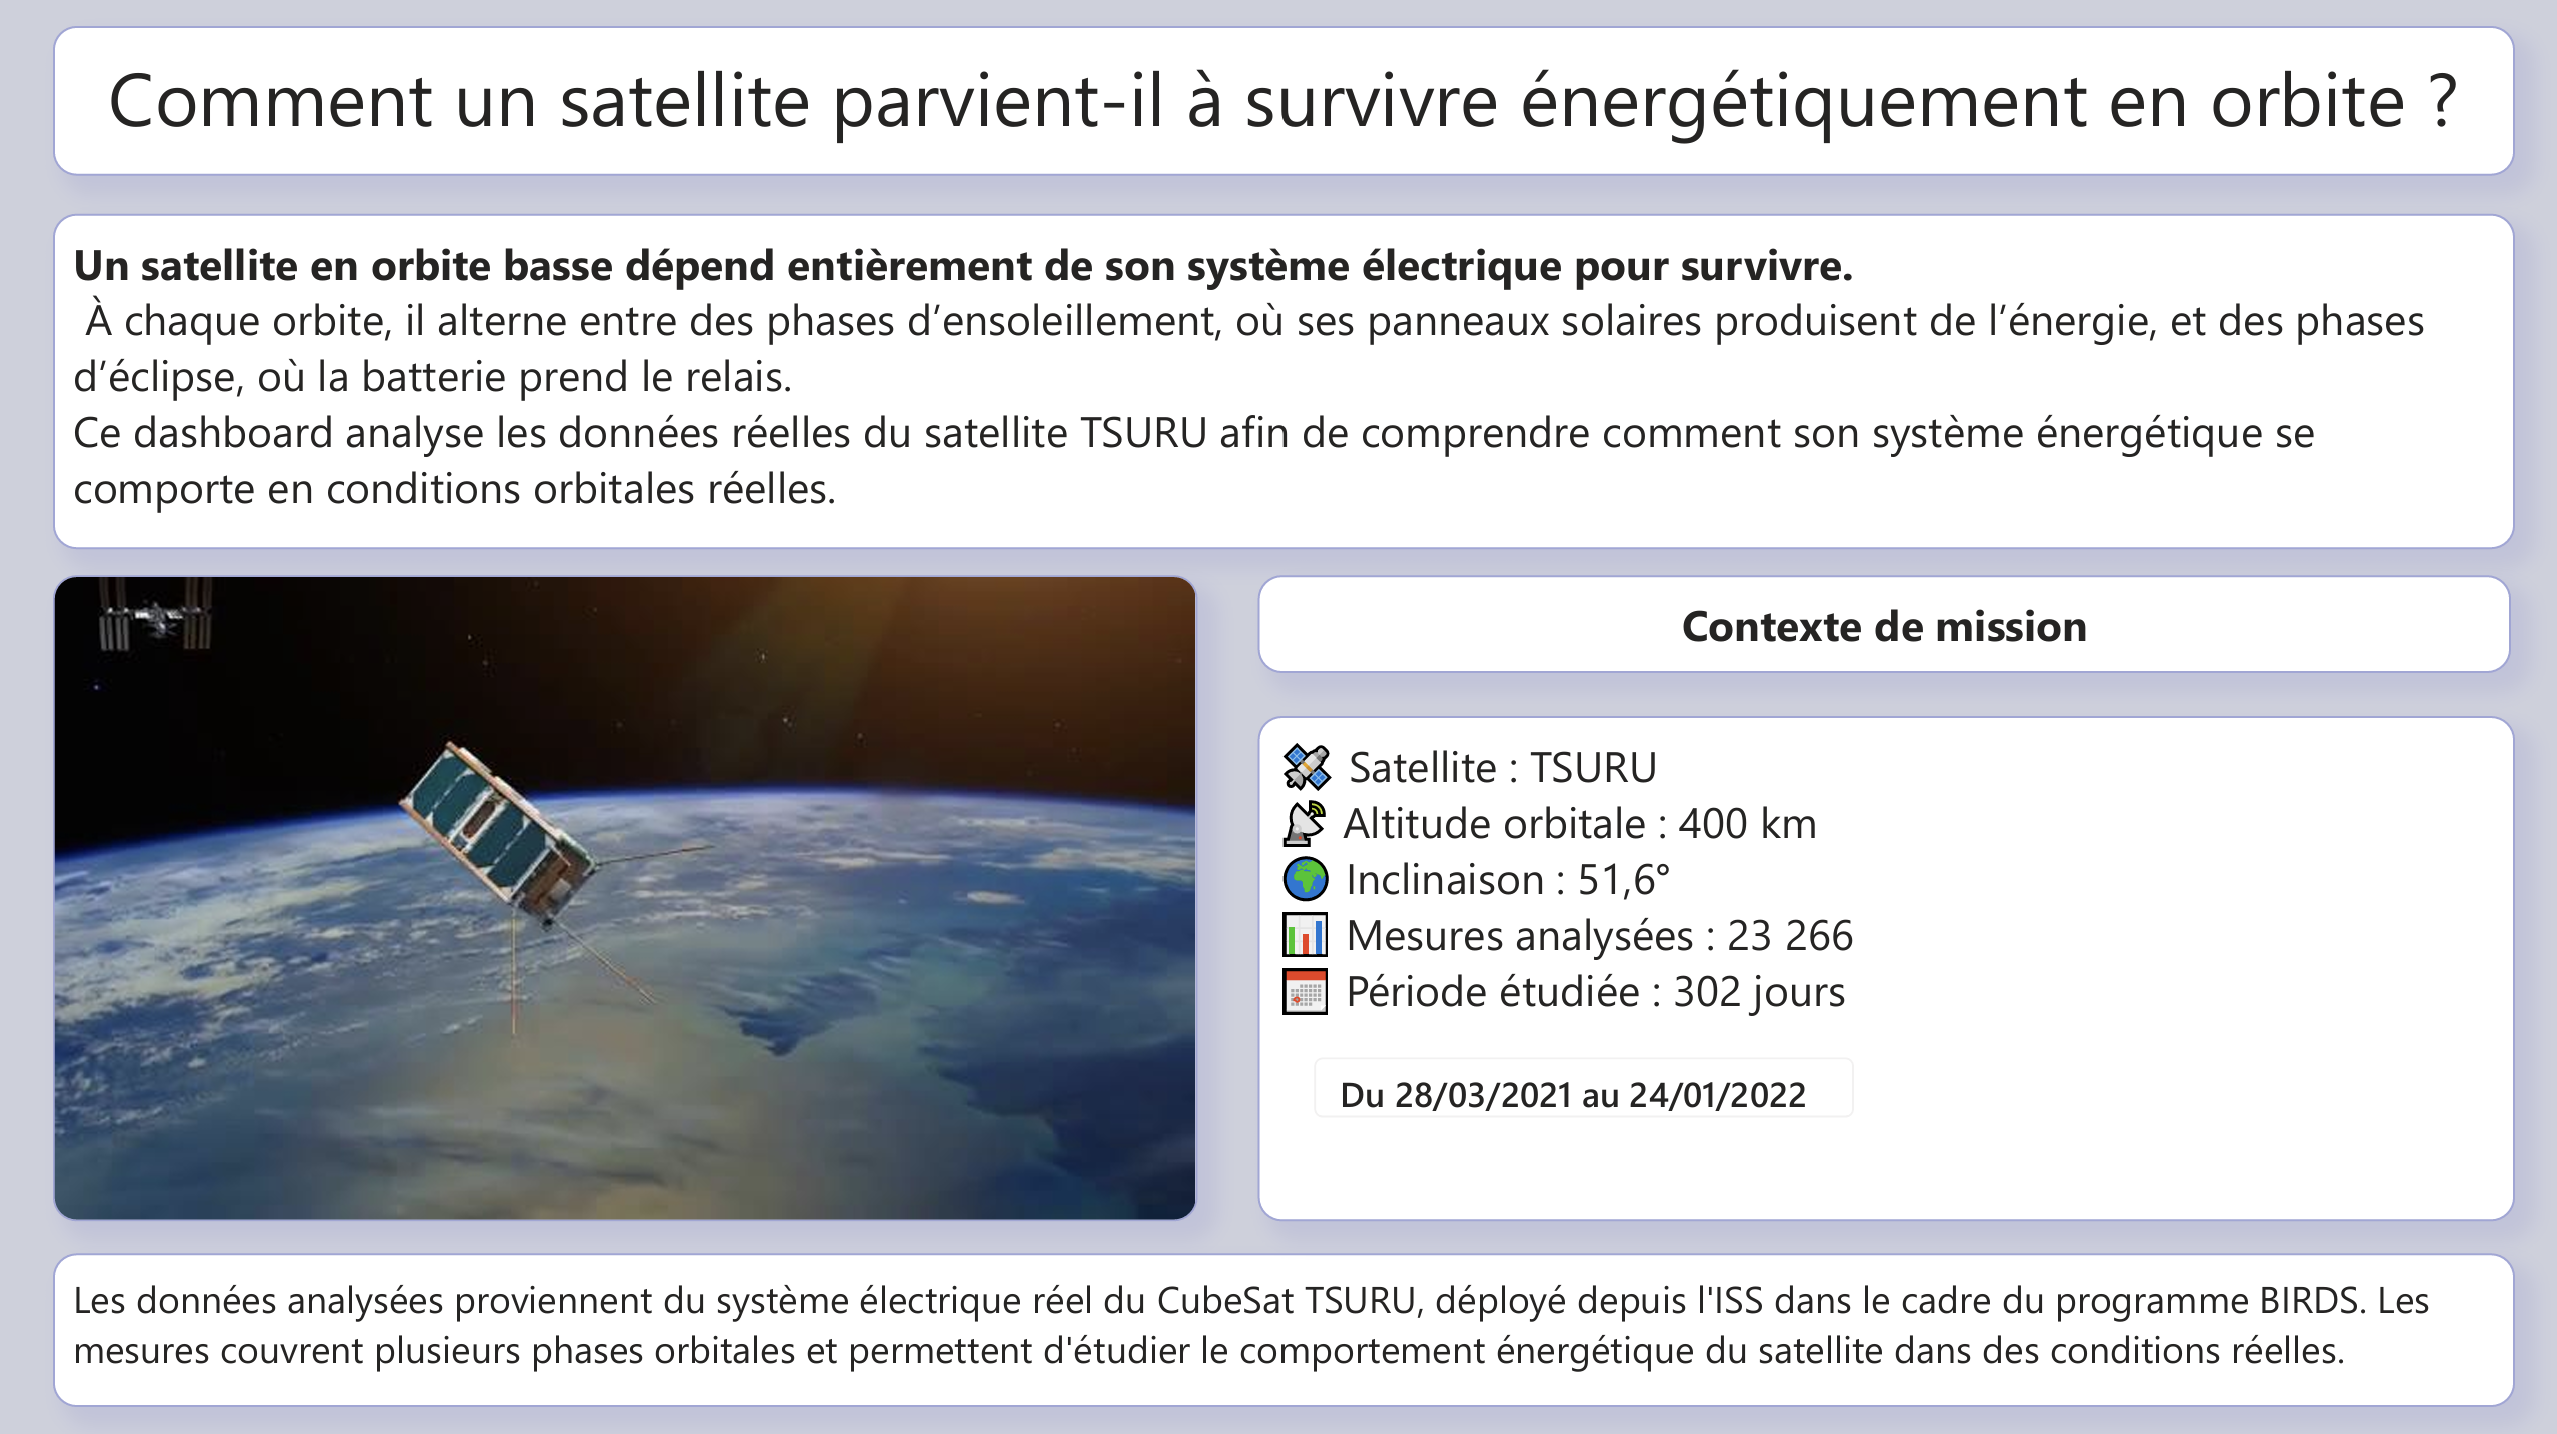

Layout of this report page (visuals, bound fields, positions):
{"tool":"powerbi","page":{"name":"01 Comprendre la mission","canvas":[1280,720],"ordinal":0},"visuals":[{"type":"textbox","box":[26.4,14.2,1231.2,75.2],"z":0},{"type":"textbox","box":[26.4,107.7,1231.2,168.6],"z":1000},{"type":"image","box":[26.2,288.8,572.5,323.8],"z":2000},{"type":"textbox","box":[628.8,288.8,627.5,48.8],"z":3000},{"type":"textbox","box":[26.2,628.8,1231.2,77.5],"z":4000},{"type":"textbox","box":[628.8,360,628.8,252.5],"z":5000},{"type":"cardVisual","fields":{"Data":["BIRDS_Mesures.Texte Période"]},"box":[640,513.8,303.8,63.8],"z":6000}]}

Visuals, with their boxes in screenshot pixels (x1, y1, x2, y2), scaled from the page's 1280x720 canvas onto the 2557x1434 screenshot:
textbox: [53, 28, 2512, 178]
textbox: [53, 215, 2512, 550]
image: [52, 575, 1196, 1220]
textbox: [1256, 575, 2510, 672]
textbox: [52, 1252, 2512, 1407]
textbox: [1256, 717, 2512, 1220]
cardVisual - BIRDS_Mesures.Texte Période: [1278, 1023, 1885, 1150]
